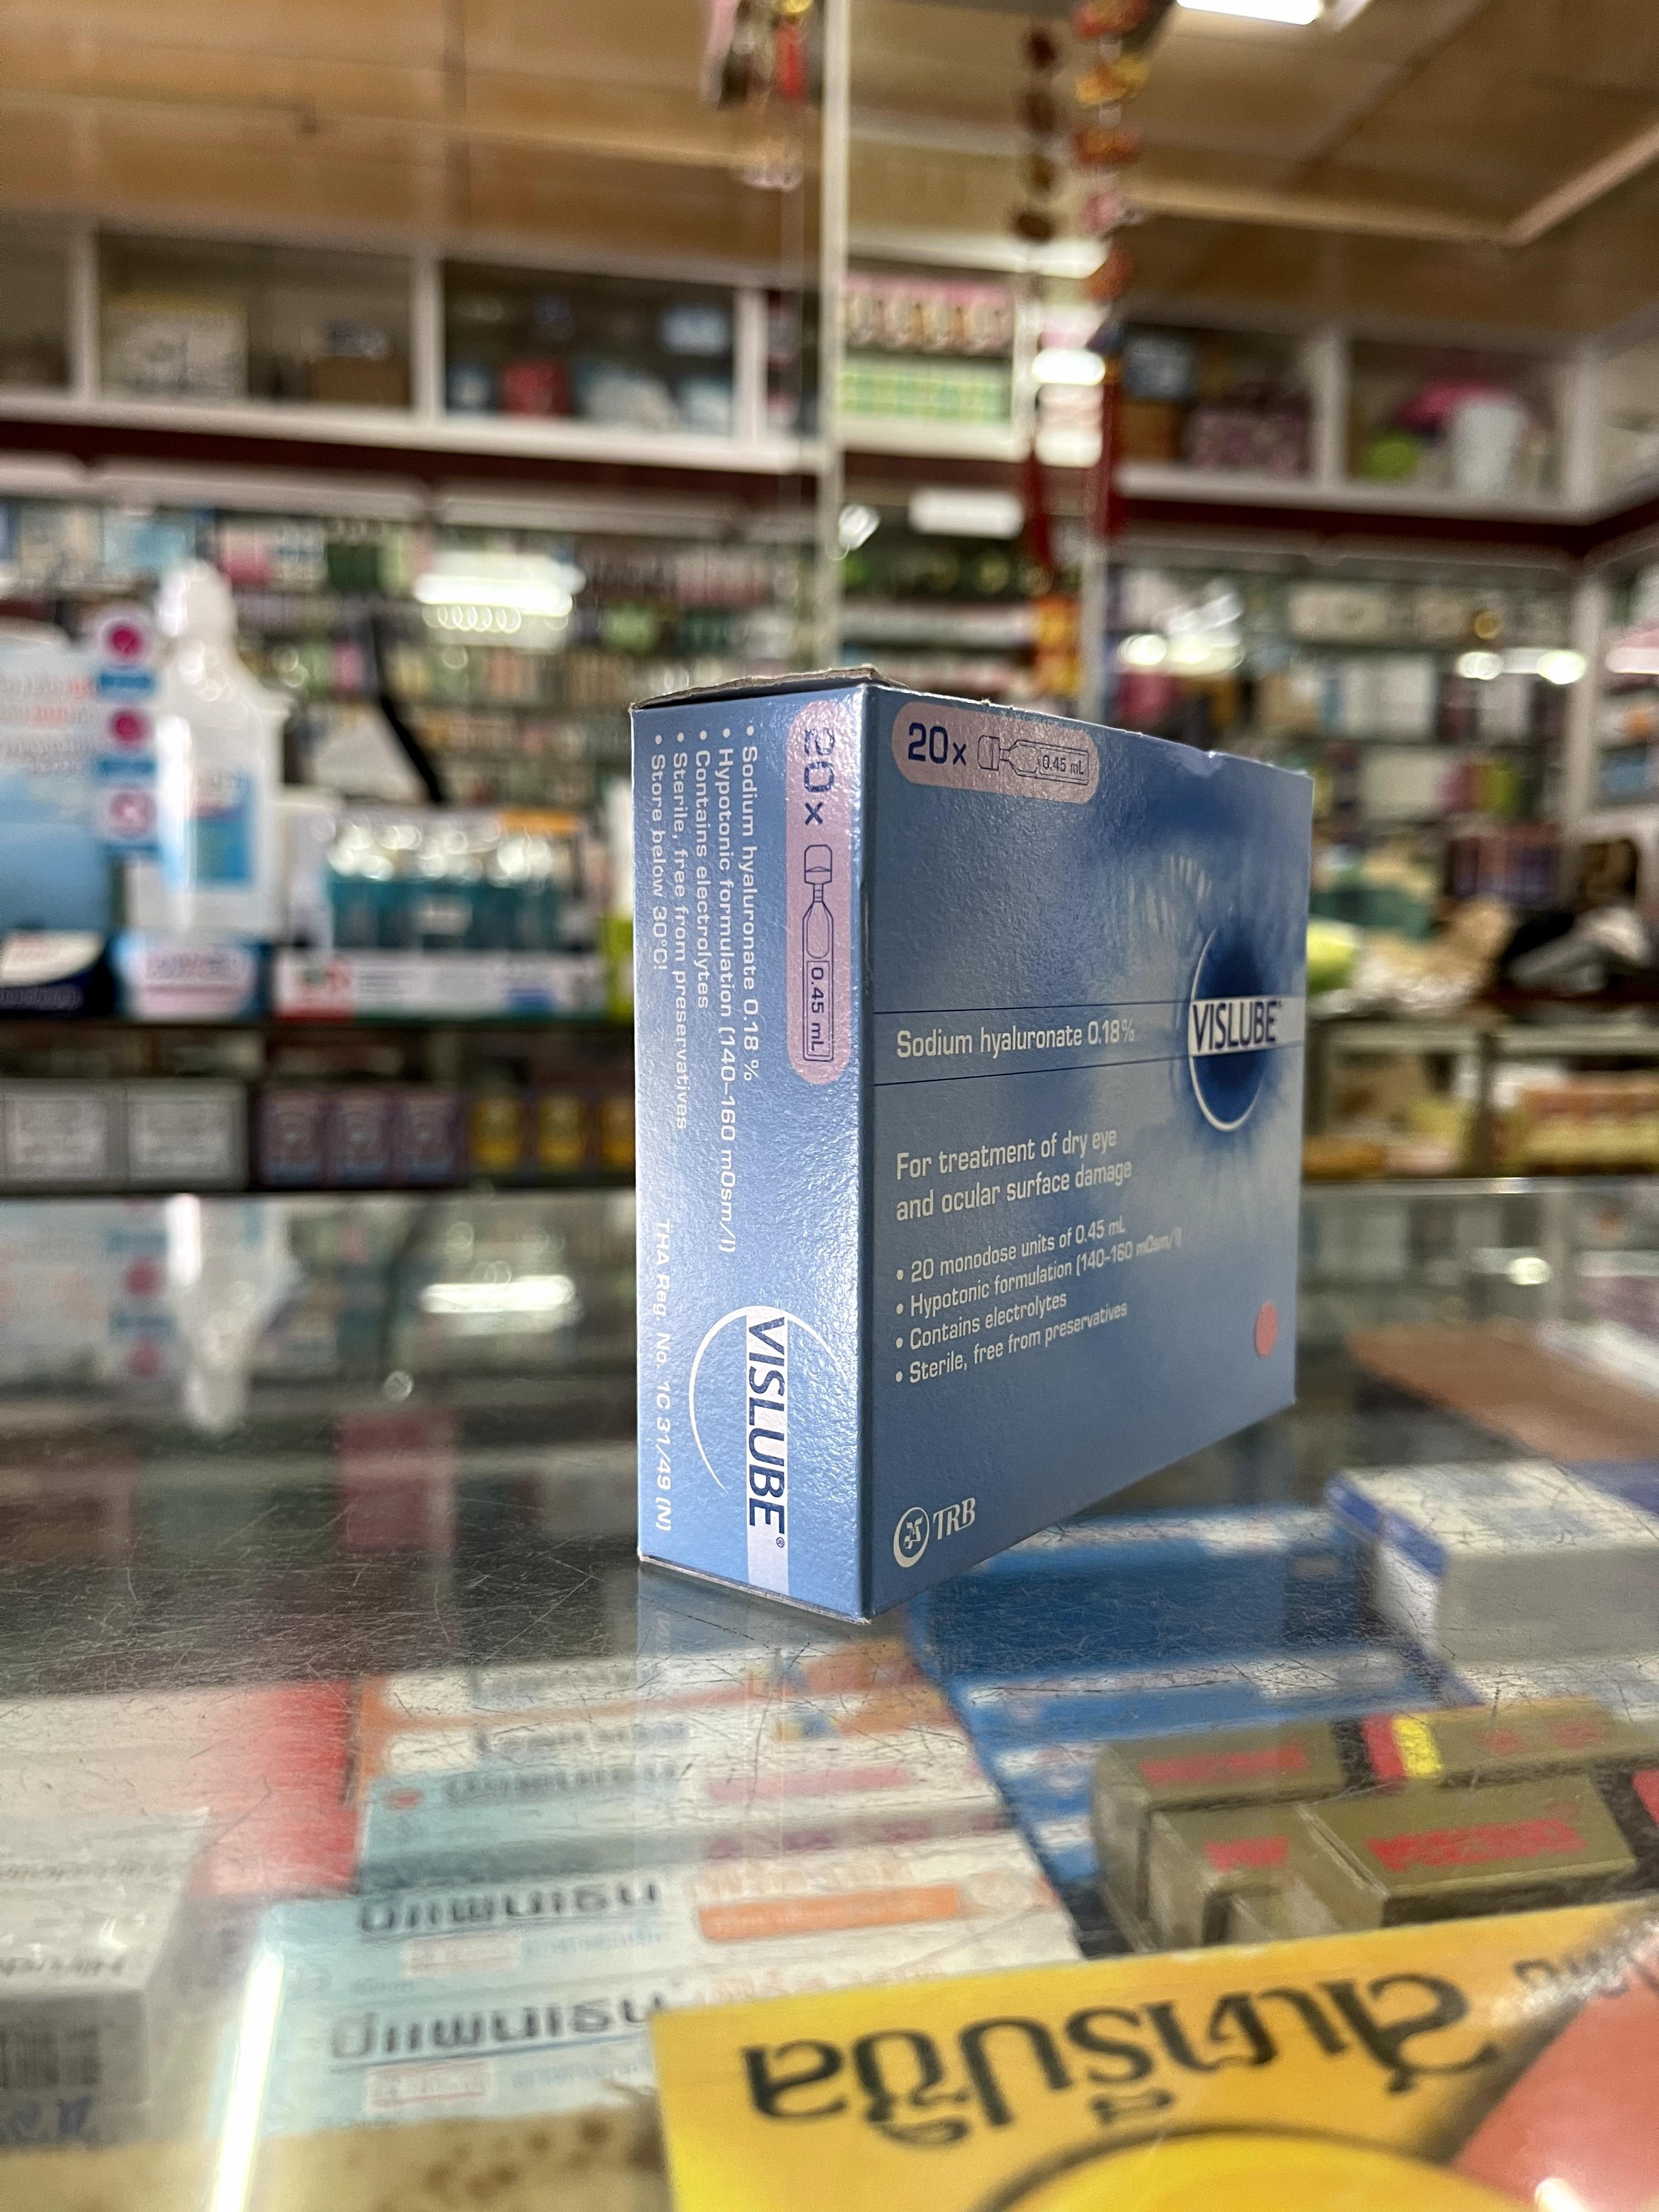Vislube20: (627, 678, 1310, 1623)
